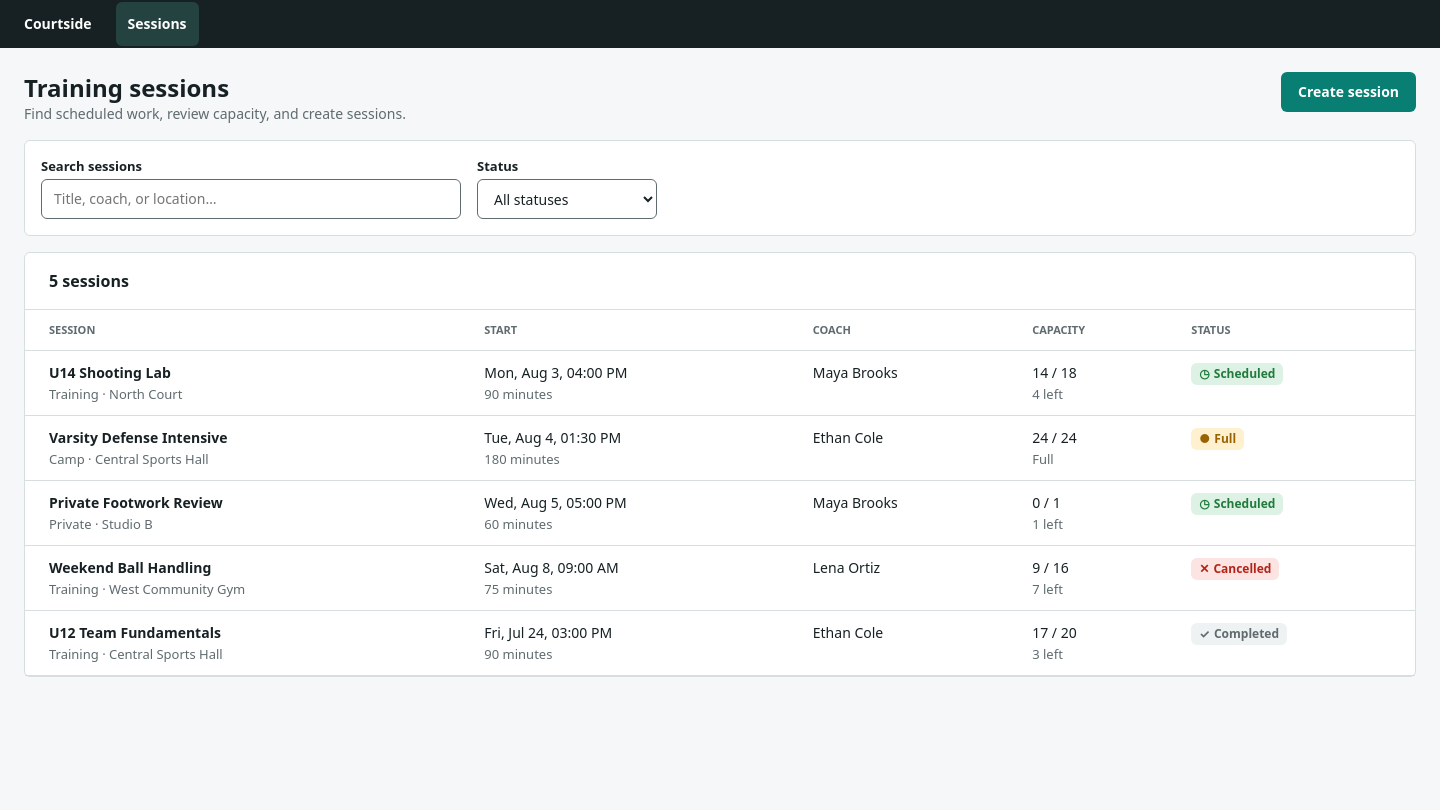
Sessions workspace › searches by coach and filters by one status through the API, then clears filters
Check: the link "U14 Shooting Lab" is shown, box [49, 363, 171, 382]
Type "maya" into the search field labelled "Search sessions" at (251, 199), box [41, 179, 461, 219]
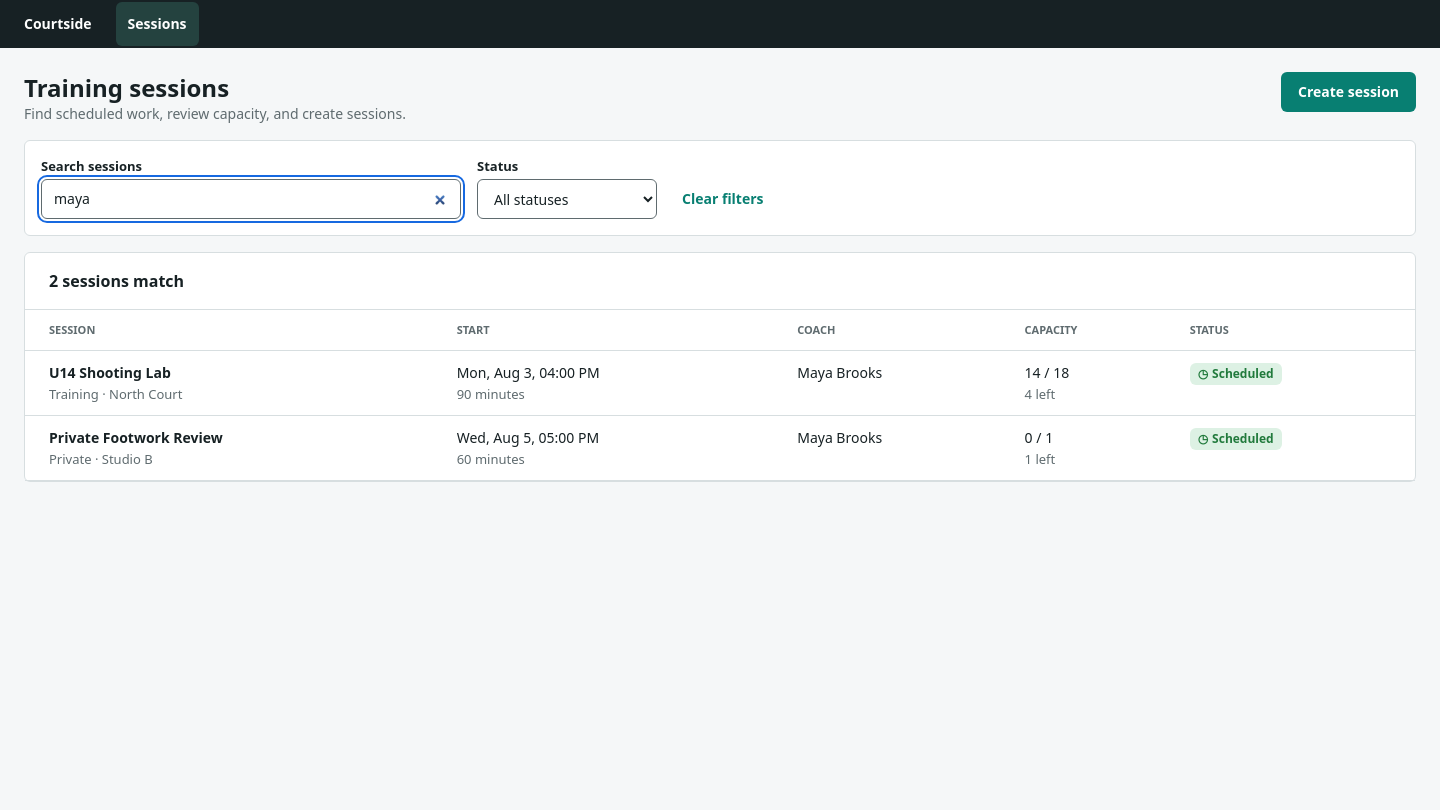
Check: the heading "2 sessions match" is shown, box [49, 269, 184, 293]
Click the button "Clear filters" at (723, 199), box [673, 179, 772, 219]
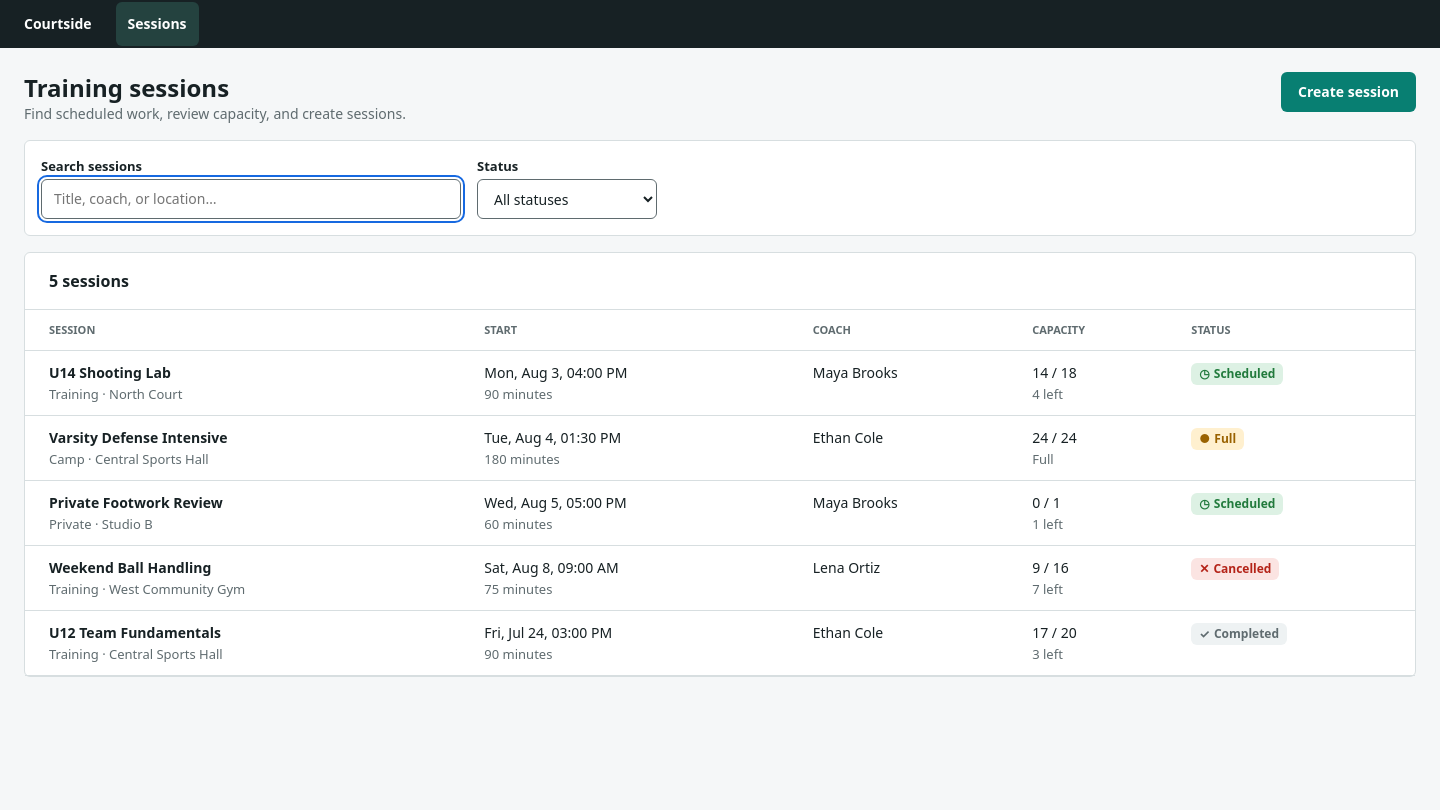
Check: the heading "5 sessions" is shown, box [49, 269, 129, 293]
Check: the search field labelled "Search sessions" is empty, box [41, 179, 461, 219]
Select "Cancelled" in the dropdown labelled "Status" at (567, 199), box [477, 179, 657, 219]
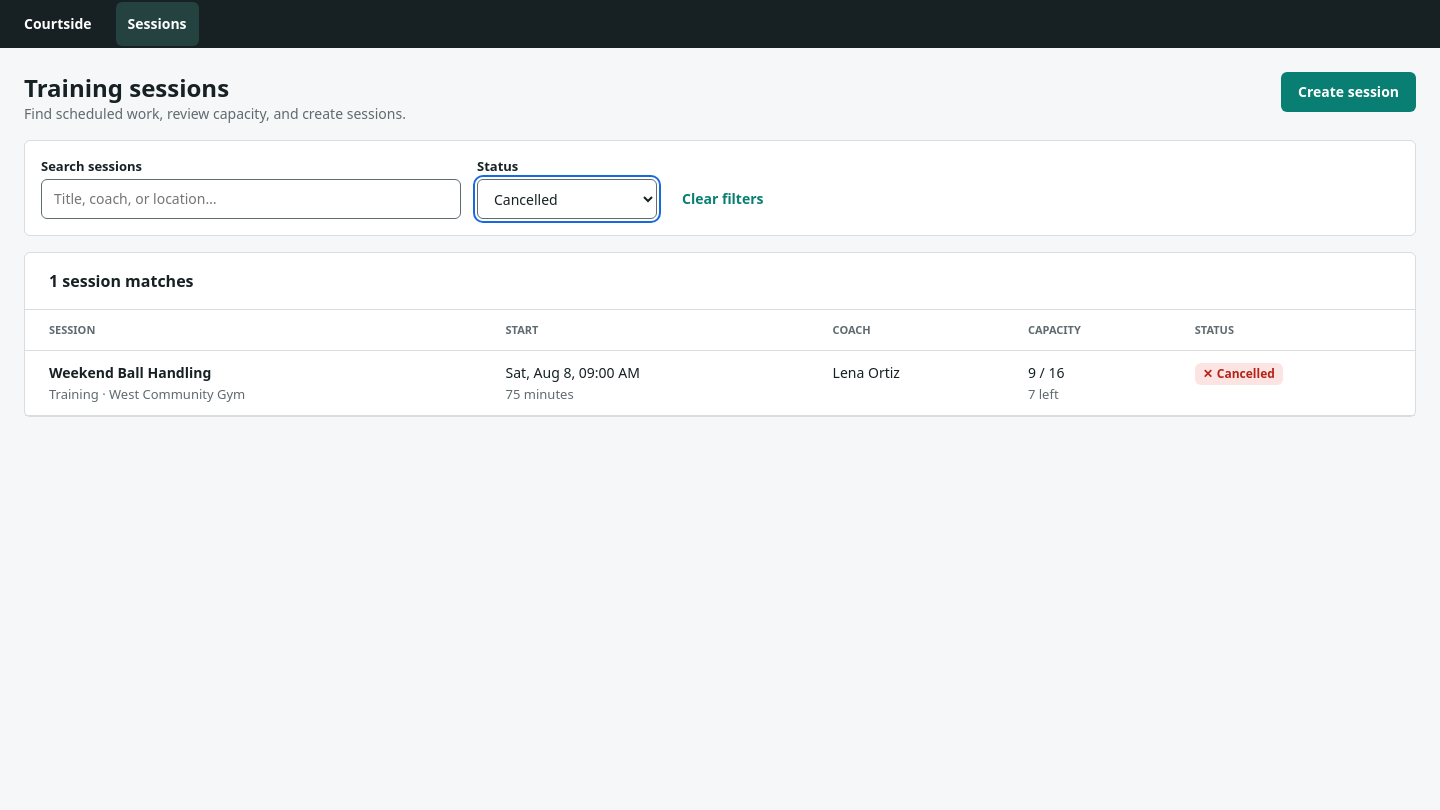
Check: the text "Cancelled" is shown, box [1217, 365, 1275, 382]
Check: the heading "1 session matches" is shown, box [49, 269, 194, 293]
